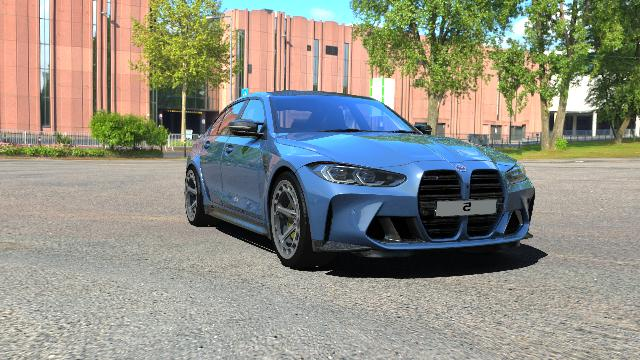License Plate: (436, 200, 496, 216)
